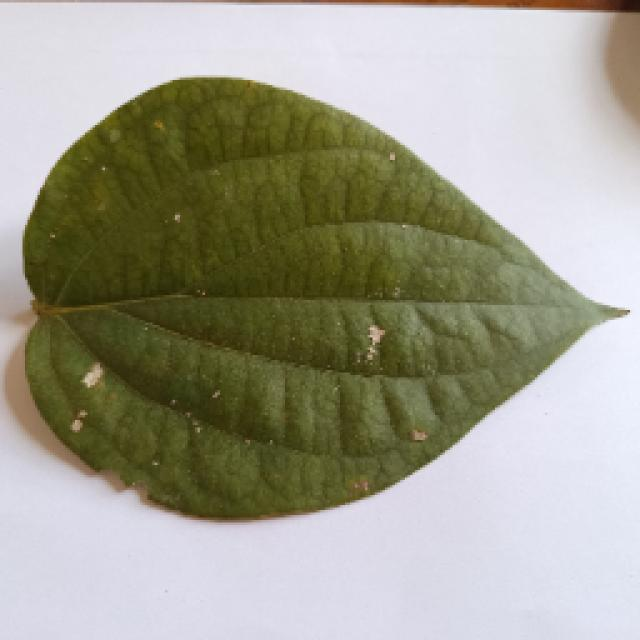pollu-disease: (12, 78, 622, 522)
